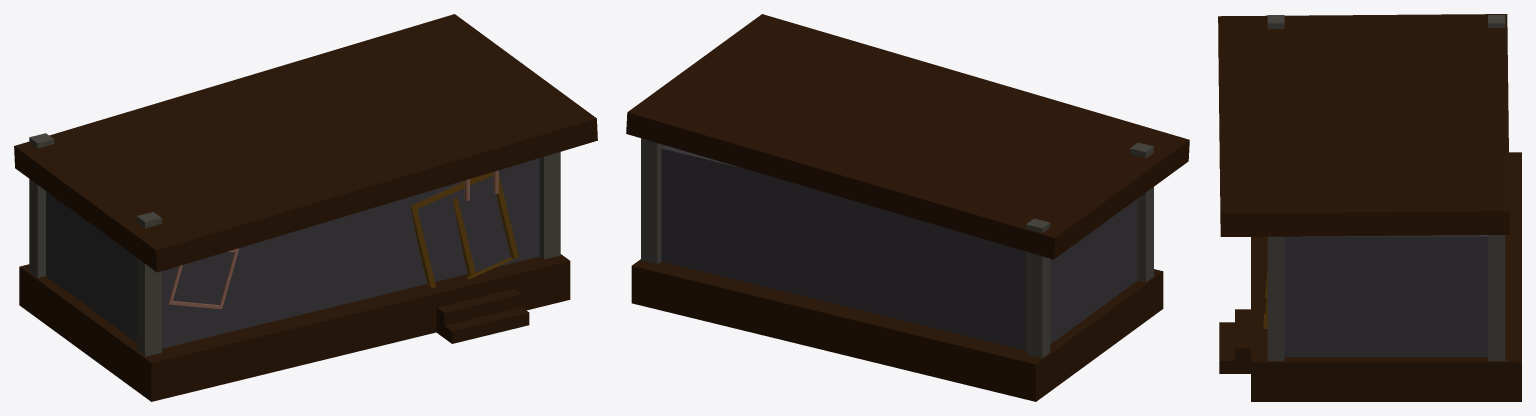
The model's file is Coffeee buzzilgan.fbx.
The picture shows the model from 3 angles, left to right: view 1: azimuth 30°, elevation 25°; view 2: azimuth 150°, elevation 25°; view 3: azimuth 270°, elevation 25°; orthographic projection. The views are drawn at different scales.
Parts seen in each view (by area): view 1: Plane.018, Plane.017, Plane.016, Cube.017, Cube.018, Plane.020, Cube.019; view 2: Plane.018, Plane.017, Plane.016, Cube.017; view 3: Plane.018, Plane.017, Plane.016, Cube.017, Cube.018.
Boxes of the visible parts, x1=… form: Plane.018: x1=14, y1=14, x2=597, y2=272; Plane.017: x1=46, y1=158, x2=539, y2=348; Plane.016: x1=19, y1=254, x2=570, y2=401; Cube.017: x1=29, y1=133, x2=560, y2=356; Cube.018: x1=436, y1=288, x2=529, y2=343; Plane.020: x1=410, y1=172, x2=518, y2=288; Cube.019: x1=168, y1=248, x2=238, y2=309; Plane.018: x1=626, y1=14, x2=1189, y2=259; Plane.017: x1=661, y1=145, x2=1137, y2=350; Plane.016: x1=631, y1=259, x2=1163, y2=401; Cube.017: x1=641, y1=138, x2=1153, y2=358; Plane.018: x1=1218, y1=14, x2=1509, y2=236; Plane.017: x1=1284, y1=235, x2=1487, y2=356; Plane.016: x1=1251, y1=152, x2=1521, y2=401; Cube.017: x1=1267, y1=15, x2=1505, y2=361; Cube.018: x1=1219, y1=309, x2=1250, y2=373.
Bounding box in the file's own units: 4363 × 1795 × 2519.
